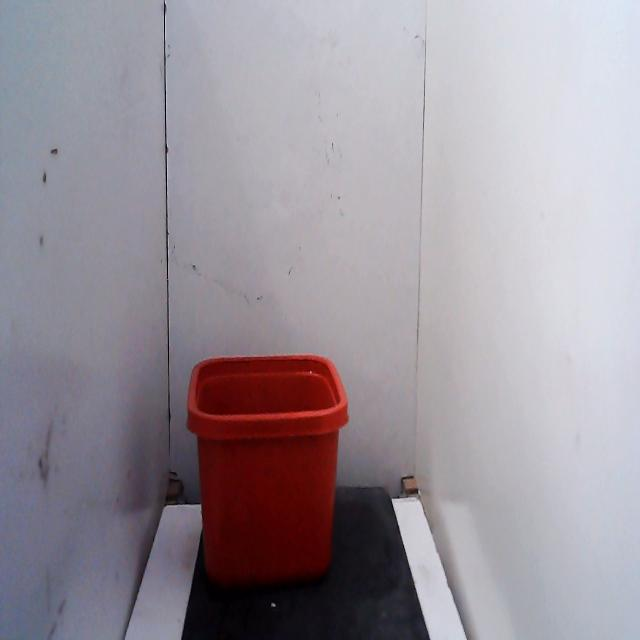plastic: (177, 339, 353, 598)
